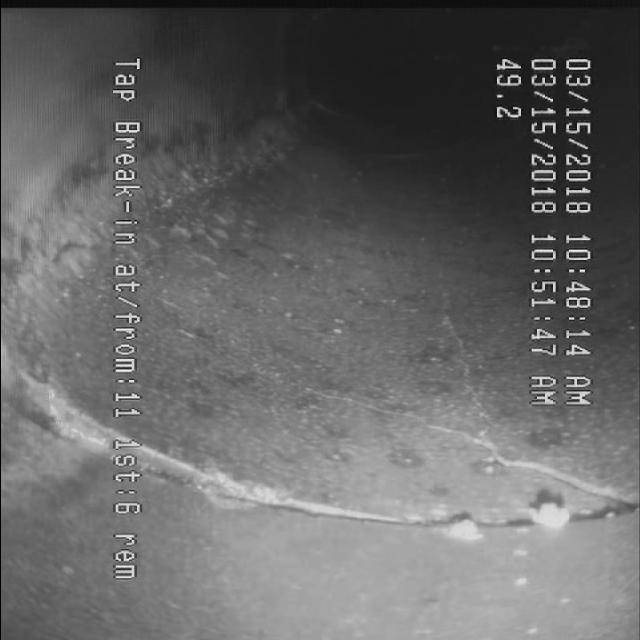Crack: (394, 284, 498, 462)
